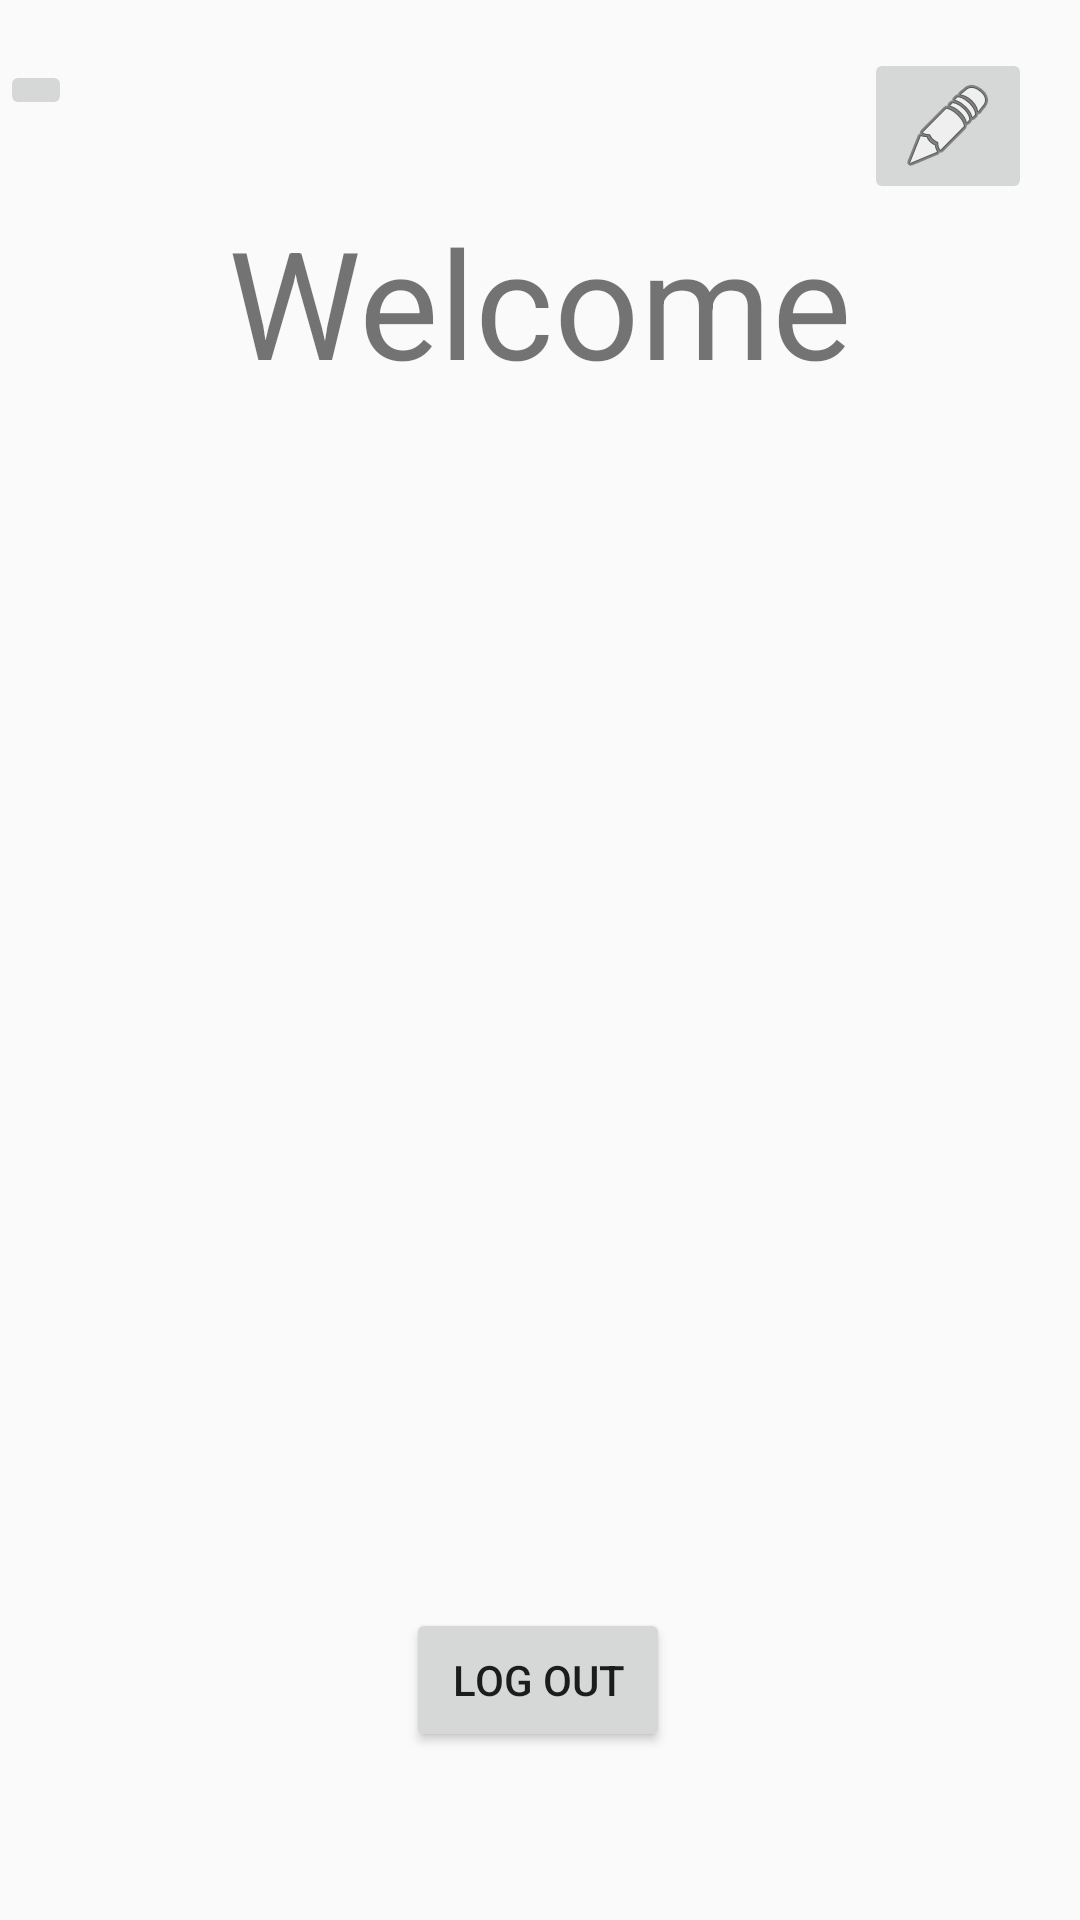

Icons on this 1080×1920 Android screen, each with the point to tap as (x,y):
edit: (948,126)
